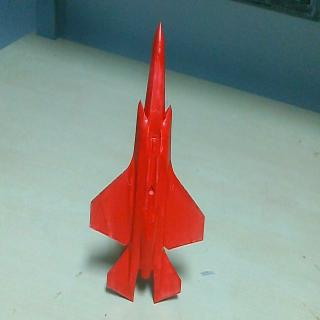Jet: (88, 21, 205, 302)
